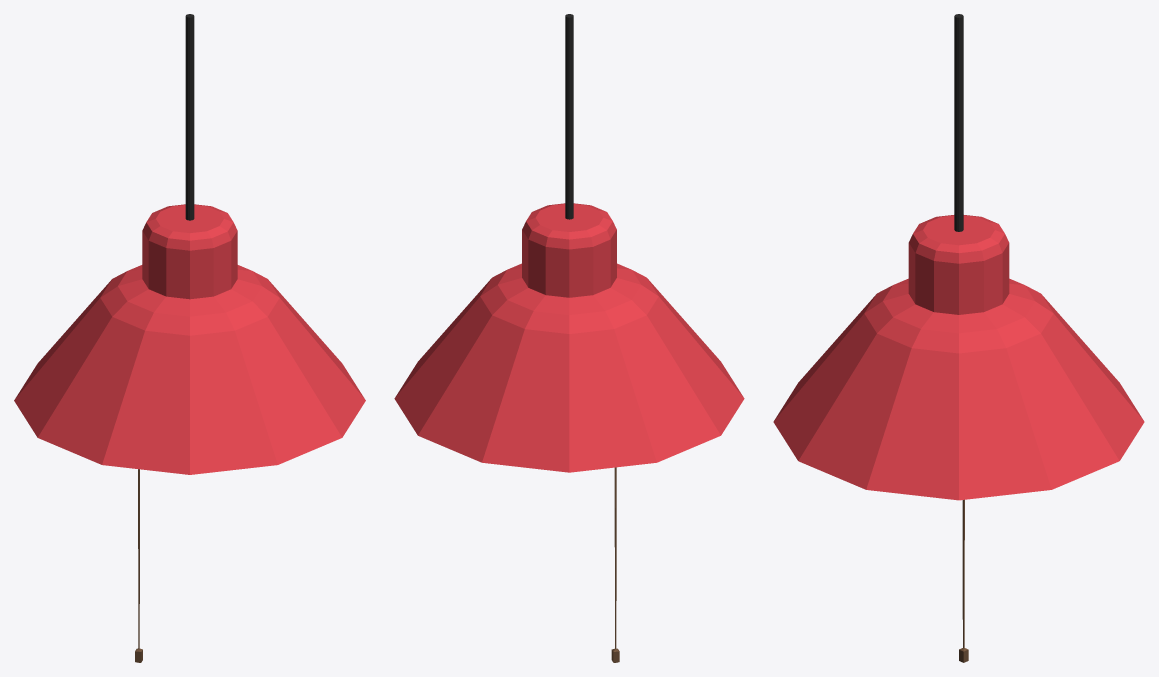
The model's file is Broom Closet Lamp.fbx.
3 views of the same model, side by side, from view 1: azimuth 30°, elevation 25°; view 2: azimuth 150°, elevation 25°; view 3: azimuth 270°, elevation 25° (orthographic). The views are drawn at different scales.
Visible parts, largest first — view 1: Cylinder; view 2: Cylinder, Cylinder.001; view 3: Cylinder, Cylinder.001.
Part boxes in pixels (x1,y1,x2,y2): Cylinder: [14, 14, 365, 474]; Cylinder: [394, 14, 744, 472]; Cylinder.001: [611, 467, 619, 662]; Cylinder: [773, 14, 1144, 500]; Cylinder.001: [959, 499, 968, 662].
Bounding box in the file's own units: 200 × 399 × 200.
